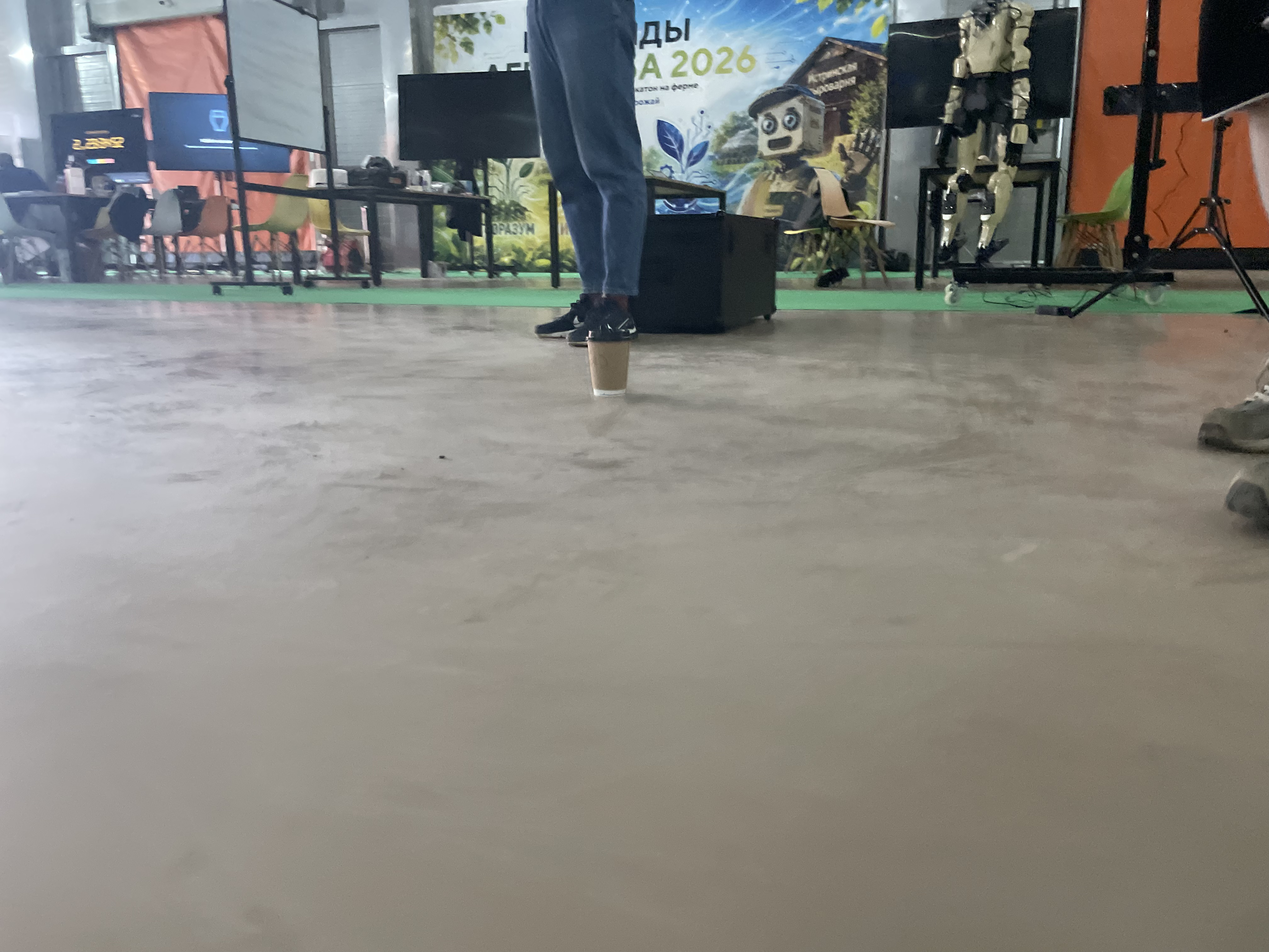cup: (586, 325, 631, 397)
